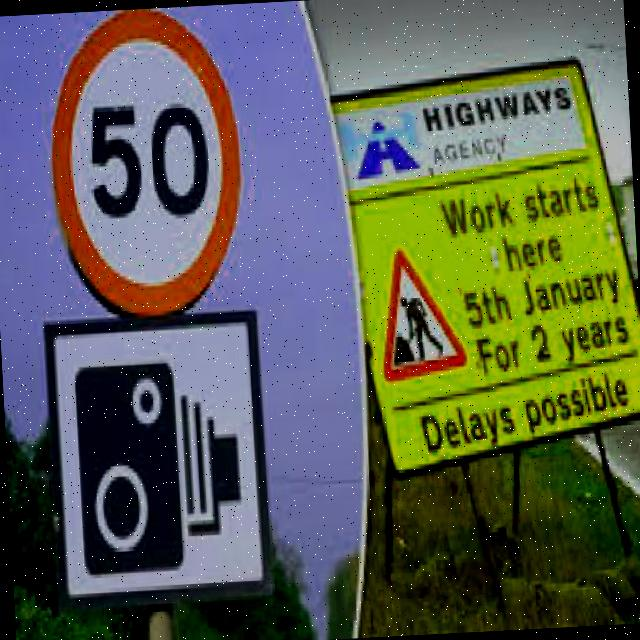Ograniczenie predkosci do 50: (48, 8, 250, 336)
